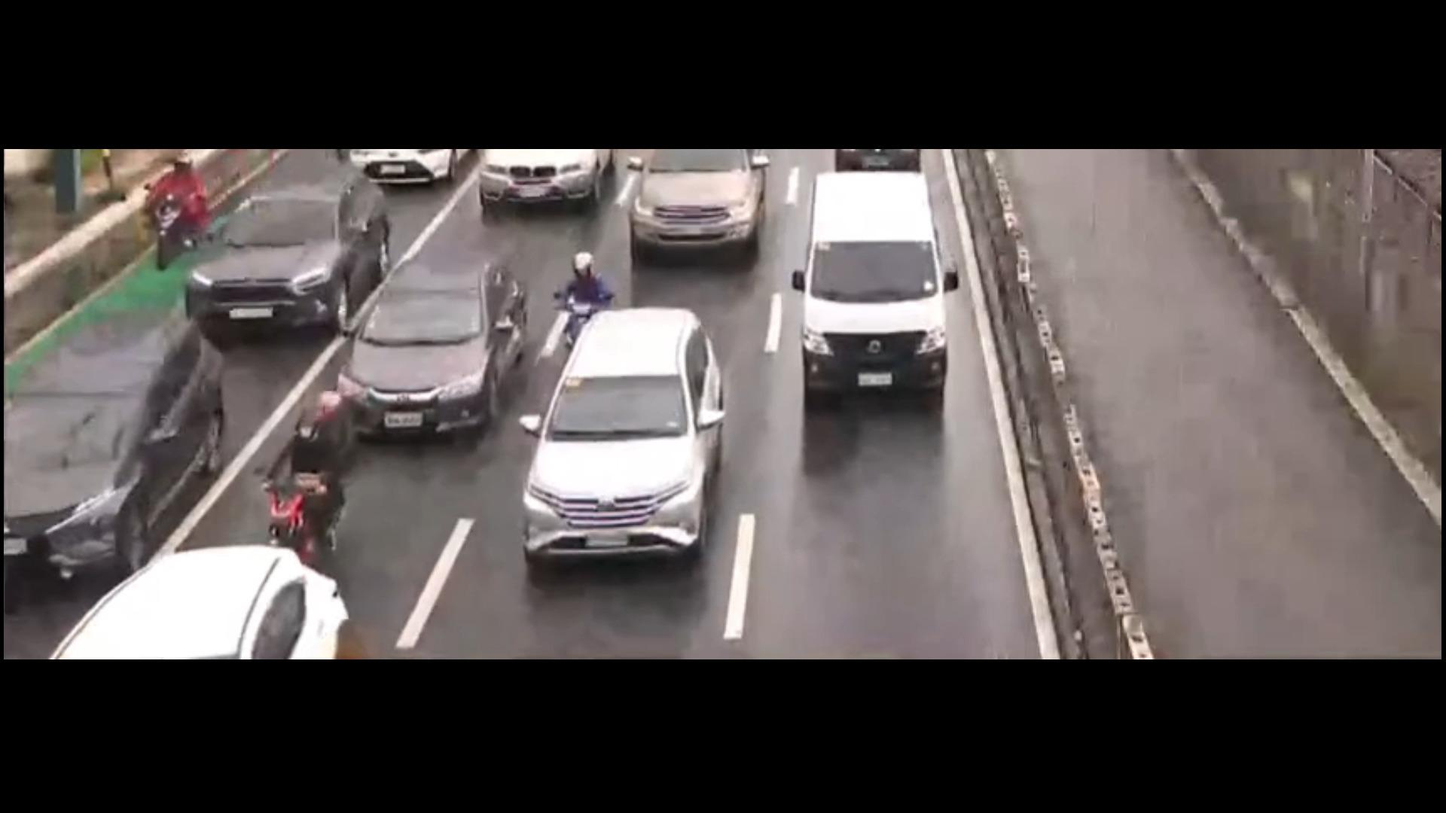Motorcycle: (248, 397, 366, 556), (126, 140, 209, 282), (552, 243, 618, 363)
SUV: (494, 304, 752, 593), (0, 303, 243, 601), (174, 143, 400, 339), (49, 540, 371, 658)
Sedan: (319, 243, 543, 438)
Van: (780, 168, 967, 425)
